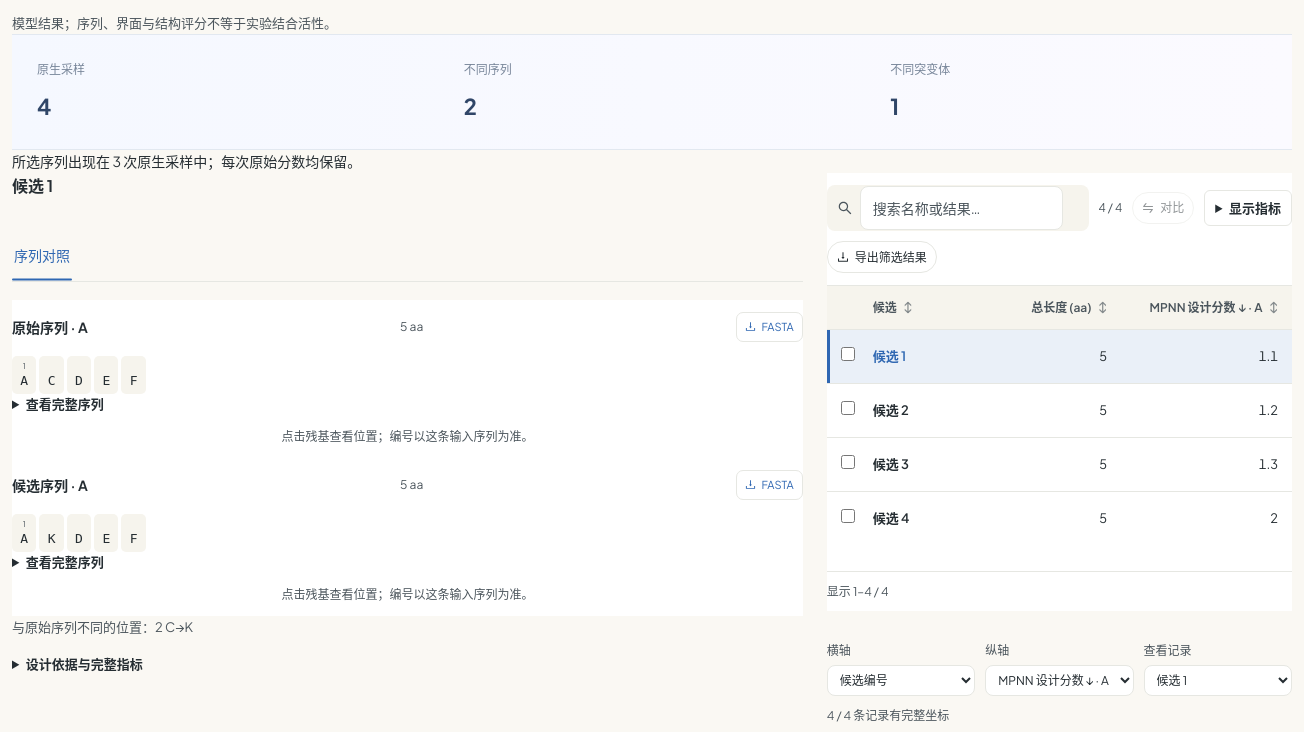
Test: distinguishes repeated native samples from changed variants and displays design scores in zh
The width and height of the screenshot is (1304, 732).
Expected: the text "4" is shown, [37, 92, 51, 120]
Expected: the text "2" below "不同序列" is shown, [464, 92, 476, 120]
Click the button "候选 4".
click(891, 518)  # box [873, 504, 910, 533]
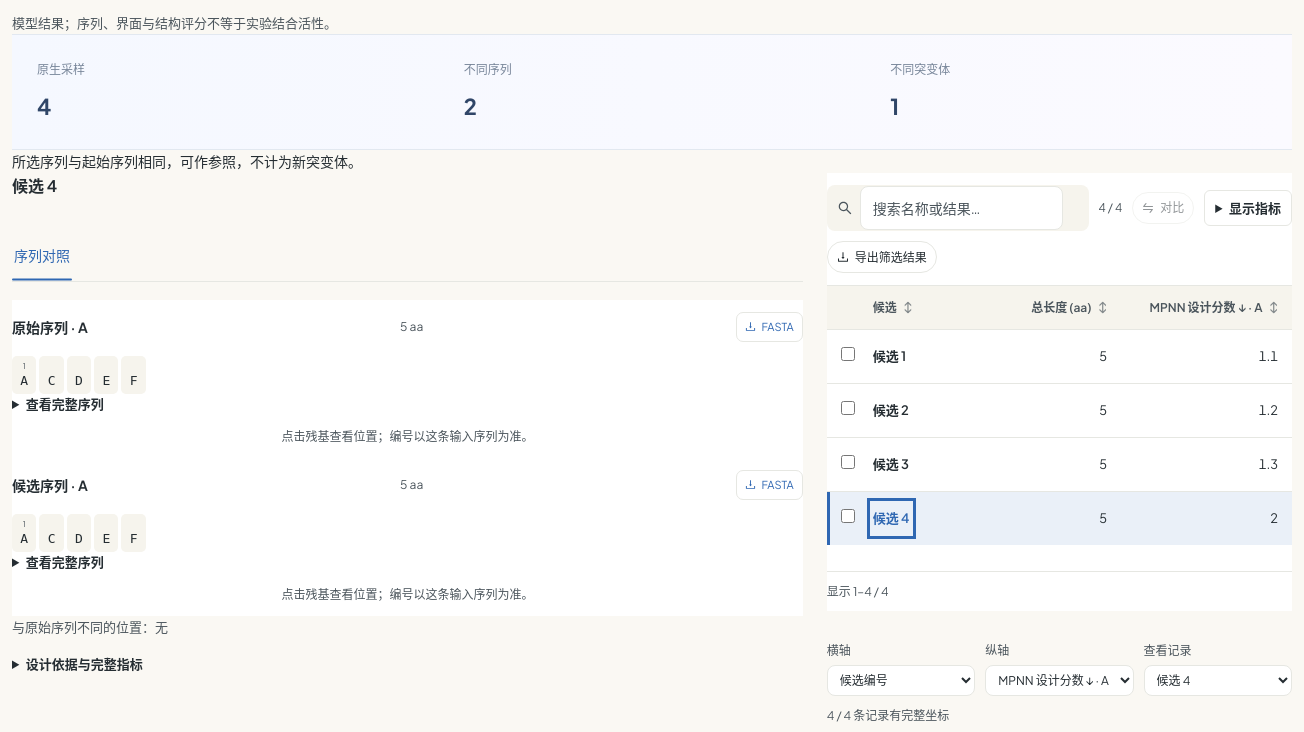
Result: the message shows "与起始序列相同" at [12, 152, 362, 170]
